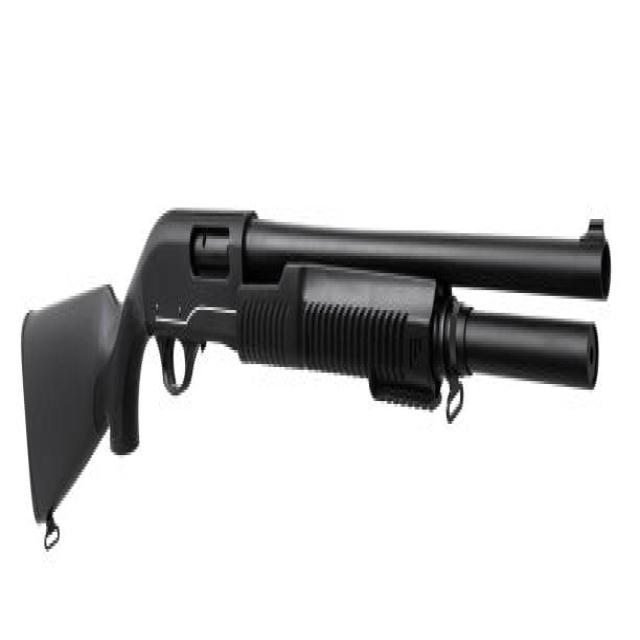rifle: (14, 192, 613, 562)
